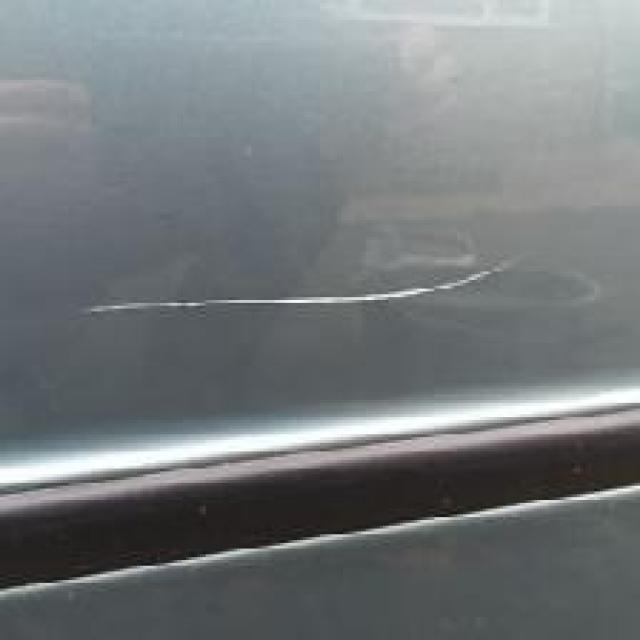damaged: (72, 257, 534, 320)
